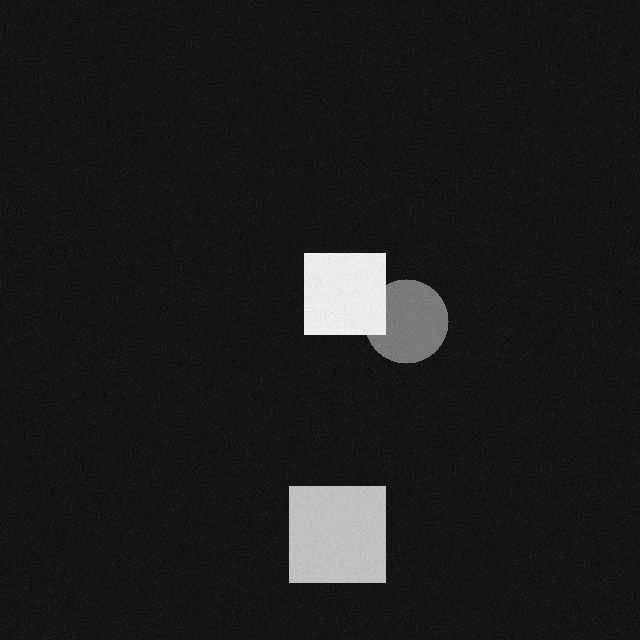circle: (355, 291, 439, 375)
square: (280, 498, 376, 594), (295, 265, 376, 346)
